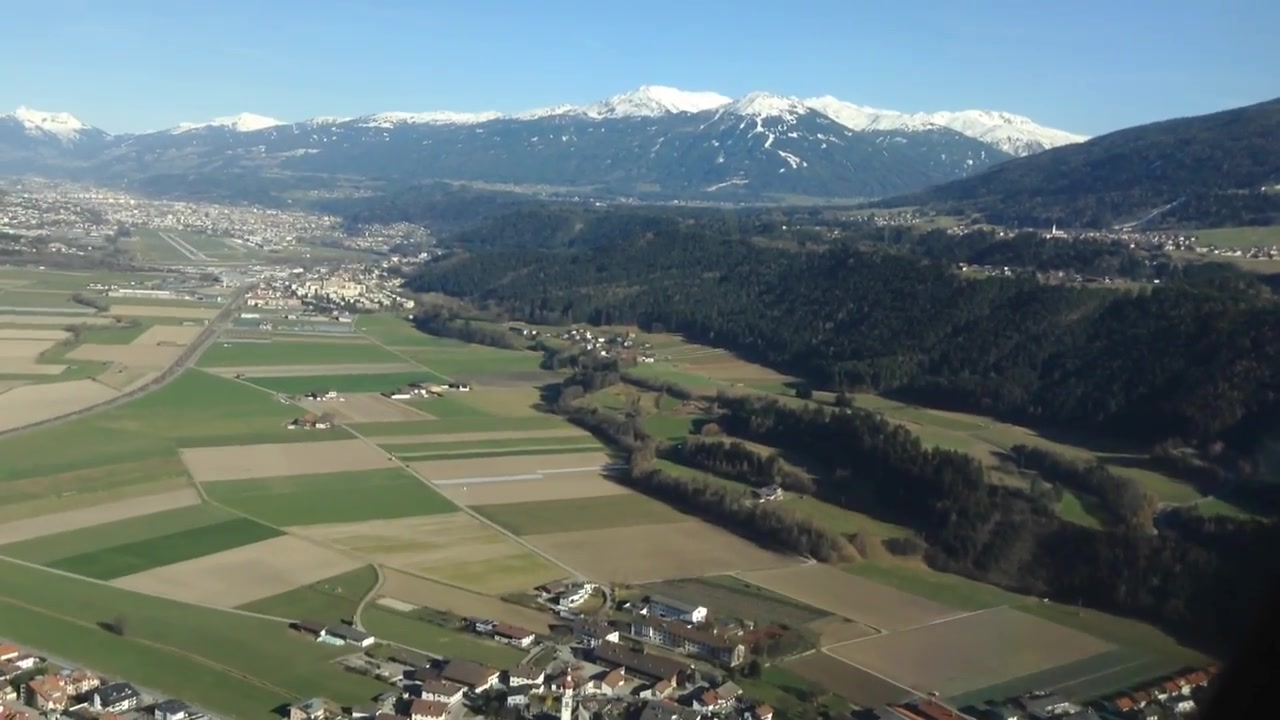runway: (157, 231, 210, 261)
